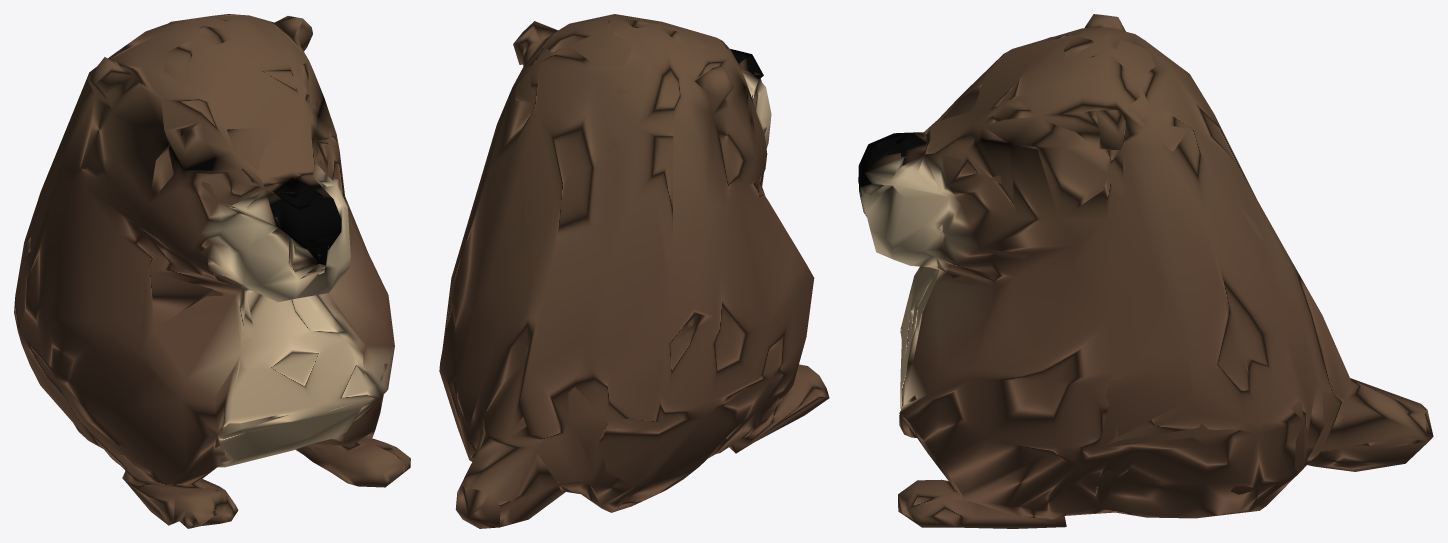
File: gen3d-otter-lod0.glb
3 renders of one model, left to right at view 1: azimuth 30°, elevation 25°; view 2: azimuth 150°, elevation 25°; view 3: azimuth 270°, elevation 25°, orthographic. The views are drawn at different scales.
Visible parts, largest first — view 1: part_0; view 2: part_0; view 3: part_0.
Boxes of the visible parts, box(x1,y1,x2,y2) form: part_0: box(14, 14, 410, 528); part_0: box(439, 14, 829, 528); part_0: box(858, 14, 1433, 528).
Size of the model in its own units: 0.7284 by 0.9994 by 1.18.
